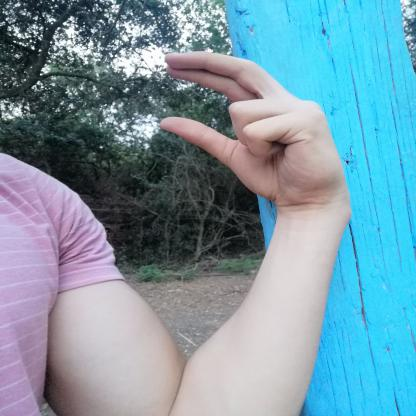DHELL: (144, 42, 354, 212)
